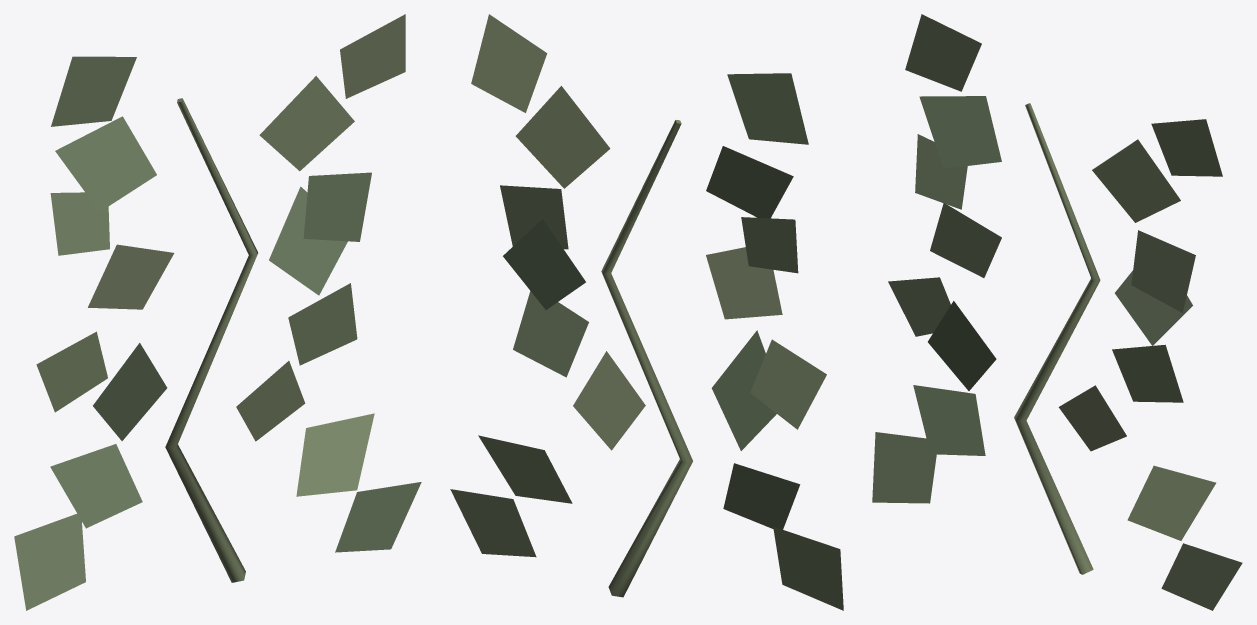
File: ivy-card.glb
The picture shows the model from 3 angles, left to right: view 1: azimuth 30°, elevation 25°; view 2: azimuth 150°, elevation 25°; view 3: azimuth 330°, elevation 25°; orthographic projection. The views are drawn at different scales.
Visible parts, largest first — view 1: ivy-card; view 2: ivy-card; view 3: ivy-card.
Part boxes in pixels (x1,y1,x2,y2): ivy-card: (14, 14, 421, 610); ivy-card: (450, 14, 843, 610); ivy-card: (872, 14, 1242, 610).
Size of the model in its own units: 0.9826 by 1.33 by 0.123.
